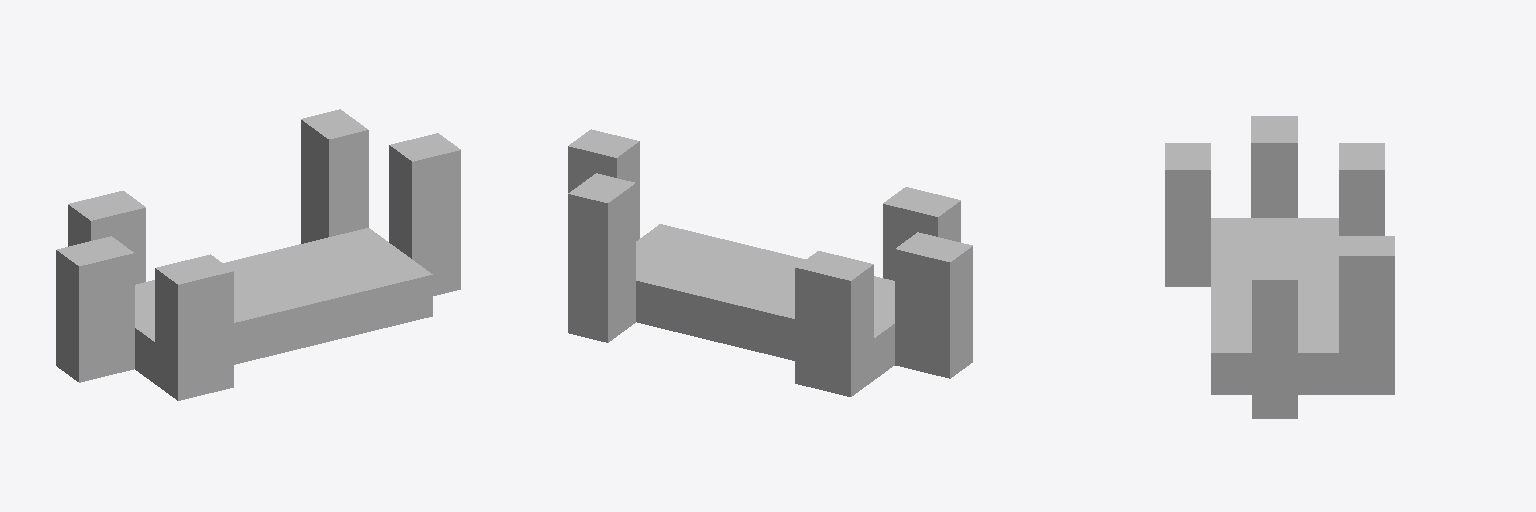
3 renders of one model, left to right at view 1: azimuth 30°, elevation 25°; view 2: azimuth 150°, elevation 25°; view 3: azimuth 270°, elevation 25°, orthographic.
Parts seen in each view (by area): view 1: mesh_1_Thick-2.002; view 2: mesh_1_Thick-2.002; view 3: mesh_1_Thick-2.002.
Boxes of the visible parts, box(x1,y1,x2,y2) form: mesh_1_Thick-2.002: box(56, 109, 460, 400); mesh_1_Thick-2.002: box(568, 129, 972, 396); mesh_1_Thick-2.002: box(1165, 116, 1394, 418).
Bounding box in the file's own units: 0.172 × 0.06 × 0.09.